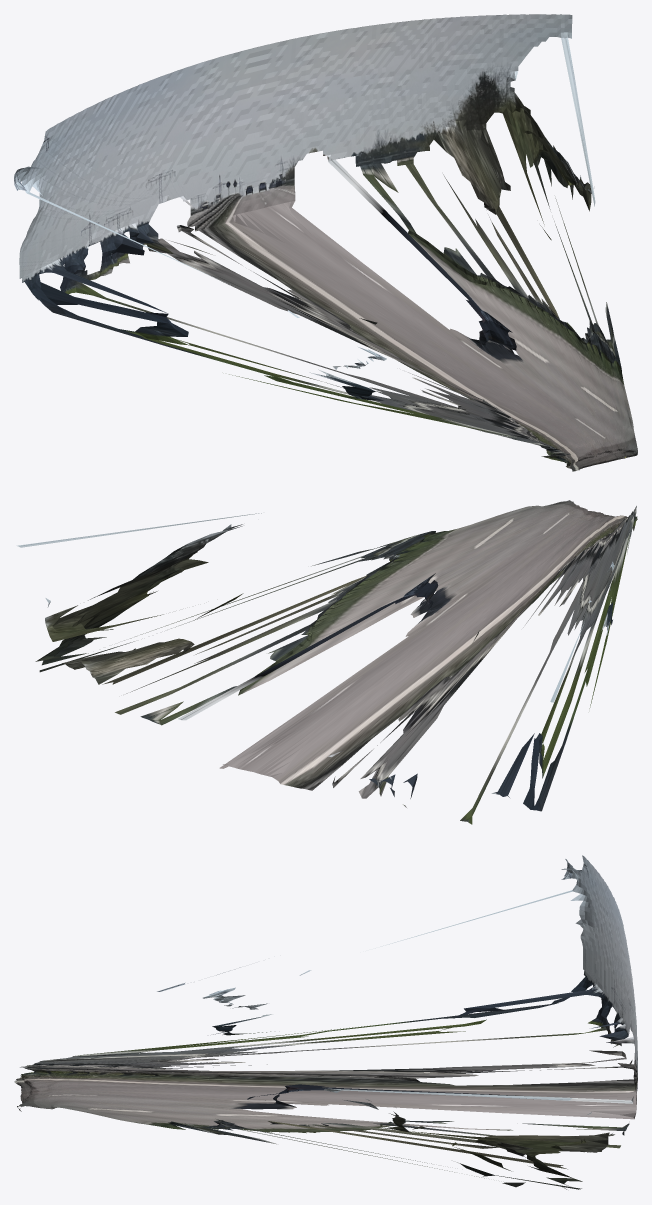
The picture shows the model from 3 angles, top to bottom: view 1: azimuth 30°, elevation 25°; view 2: azimuth 150°, elevation 25°; view 3: azimuth 270°, elevation 25°; orthographic projection. The views are drawn at different scales.
Parts seen in each view (by area): view 1: defaultobject; view 2: defaultobject; view 3: defaultobject.
Part boxes in pixels (left/top/right/bottom): defaultobject: left=14, top=14, right=637, bottom=471; defaultobject: left=16, top=500, right=637, bottom=824; defaultobject: left=14, top=855, right=637, bottom=1189.
Bounding box in the file's own units: 40.67 × 13.04 × 44.62.
1 material, 1 textured.
